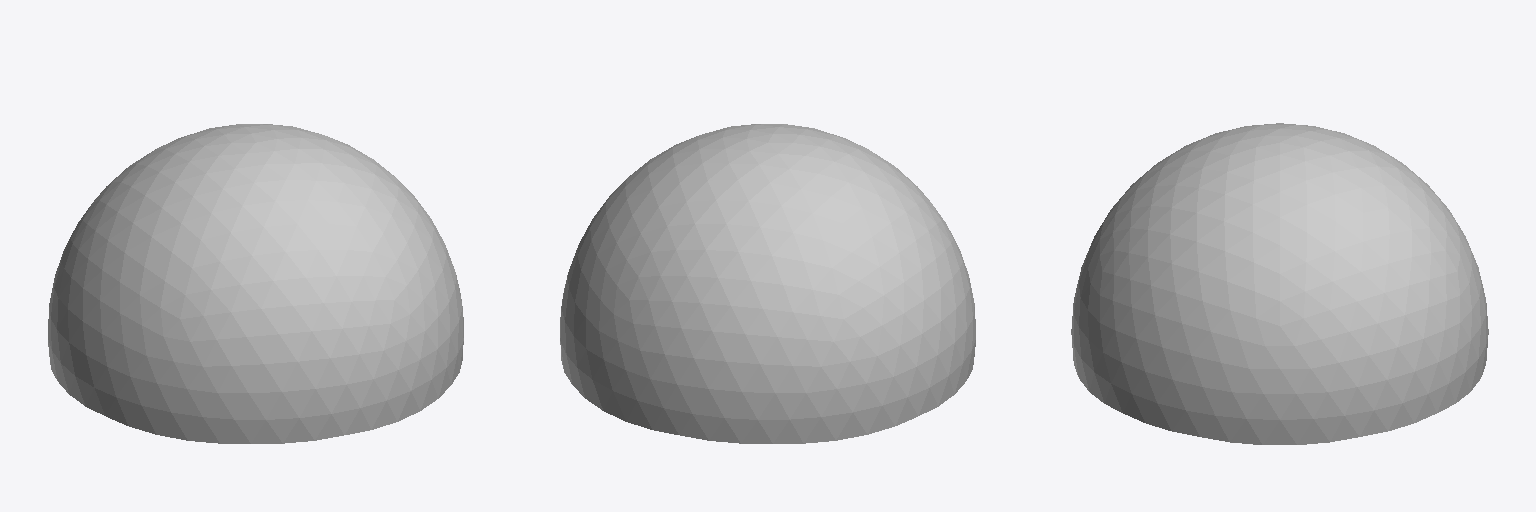
Rendered from skydome.obj.
3 renders of one model, left to right at view 1: azimuth 30°, elevation 25°; view 2: azimuth 150°, elevation 25°; view 3: azimuth 270°, elevation 25°, orthographic.
Parts seen in each view (by area): view 1: Icosphere; view 2: Icosphere; view 3: Icosphere.
Boxes of the visible parts, box(x1,y1,x2,y2) form: Icosphere: box(48, 124, 463, 443); Icosphere: box(560, 124, 975, 443); Icosphere: box(1071, 123, 1488, 444).
Size of the model in its own units: 100 by 59.9 by 100.